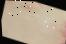plaque psoriasis: (49, 8, 66, 44), (23, 1, 34, 13)
